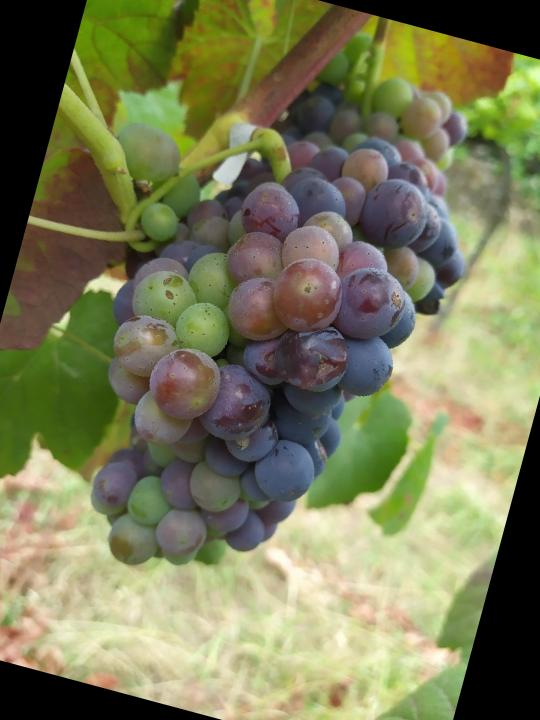grape: (45, 80, 463, 624)
